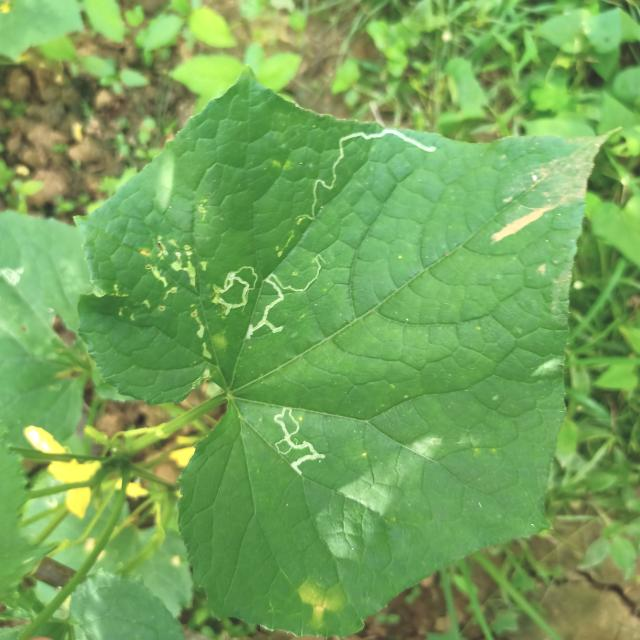disease_cucumber: (300, 579, 339, 631)
